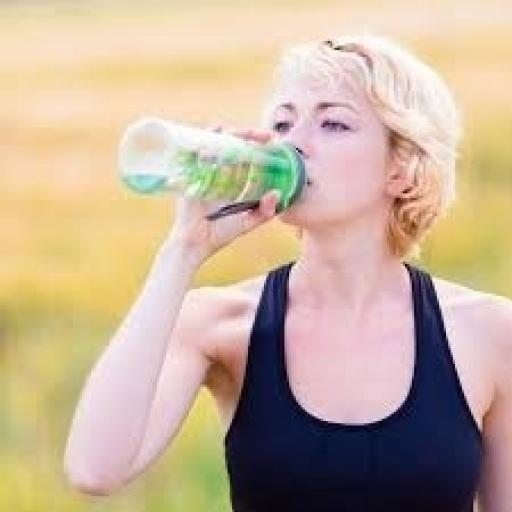drinking: (116, 114, 307, 221)
